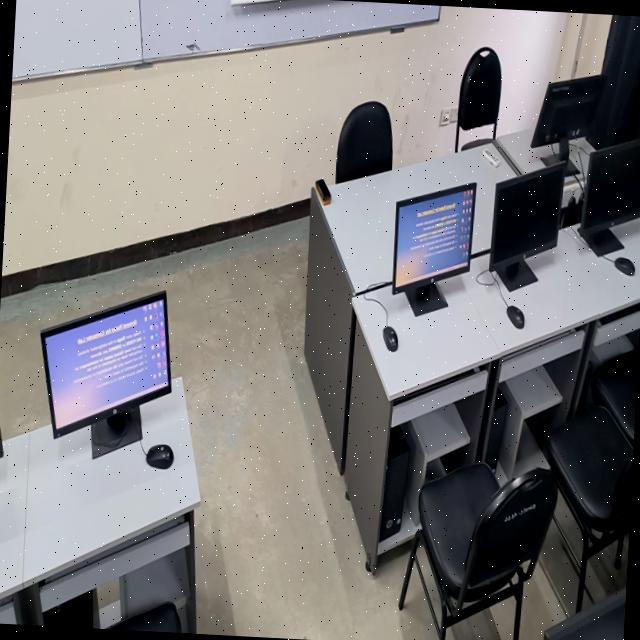Chair: (411, 450, 544, 640), (548, 405, 636, 552), (451, 40, 512, 148), (337, 99, 407, 184), (590, 352, 638, 430)
Monitor: (48, 284, 172, 444), (388, 182, 475, 318), (527, 58, 610, 166), (488, 169, 564, 278), (537, 575, 627, 640), (583, 138, 640, 230), (0, 340, 3, 488)
Mouse: (146, 443, 176, 476), (614, 252, 638, 286), (378, 321, 398, 356), (505, 301, 525, 332)
